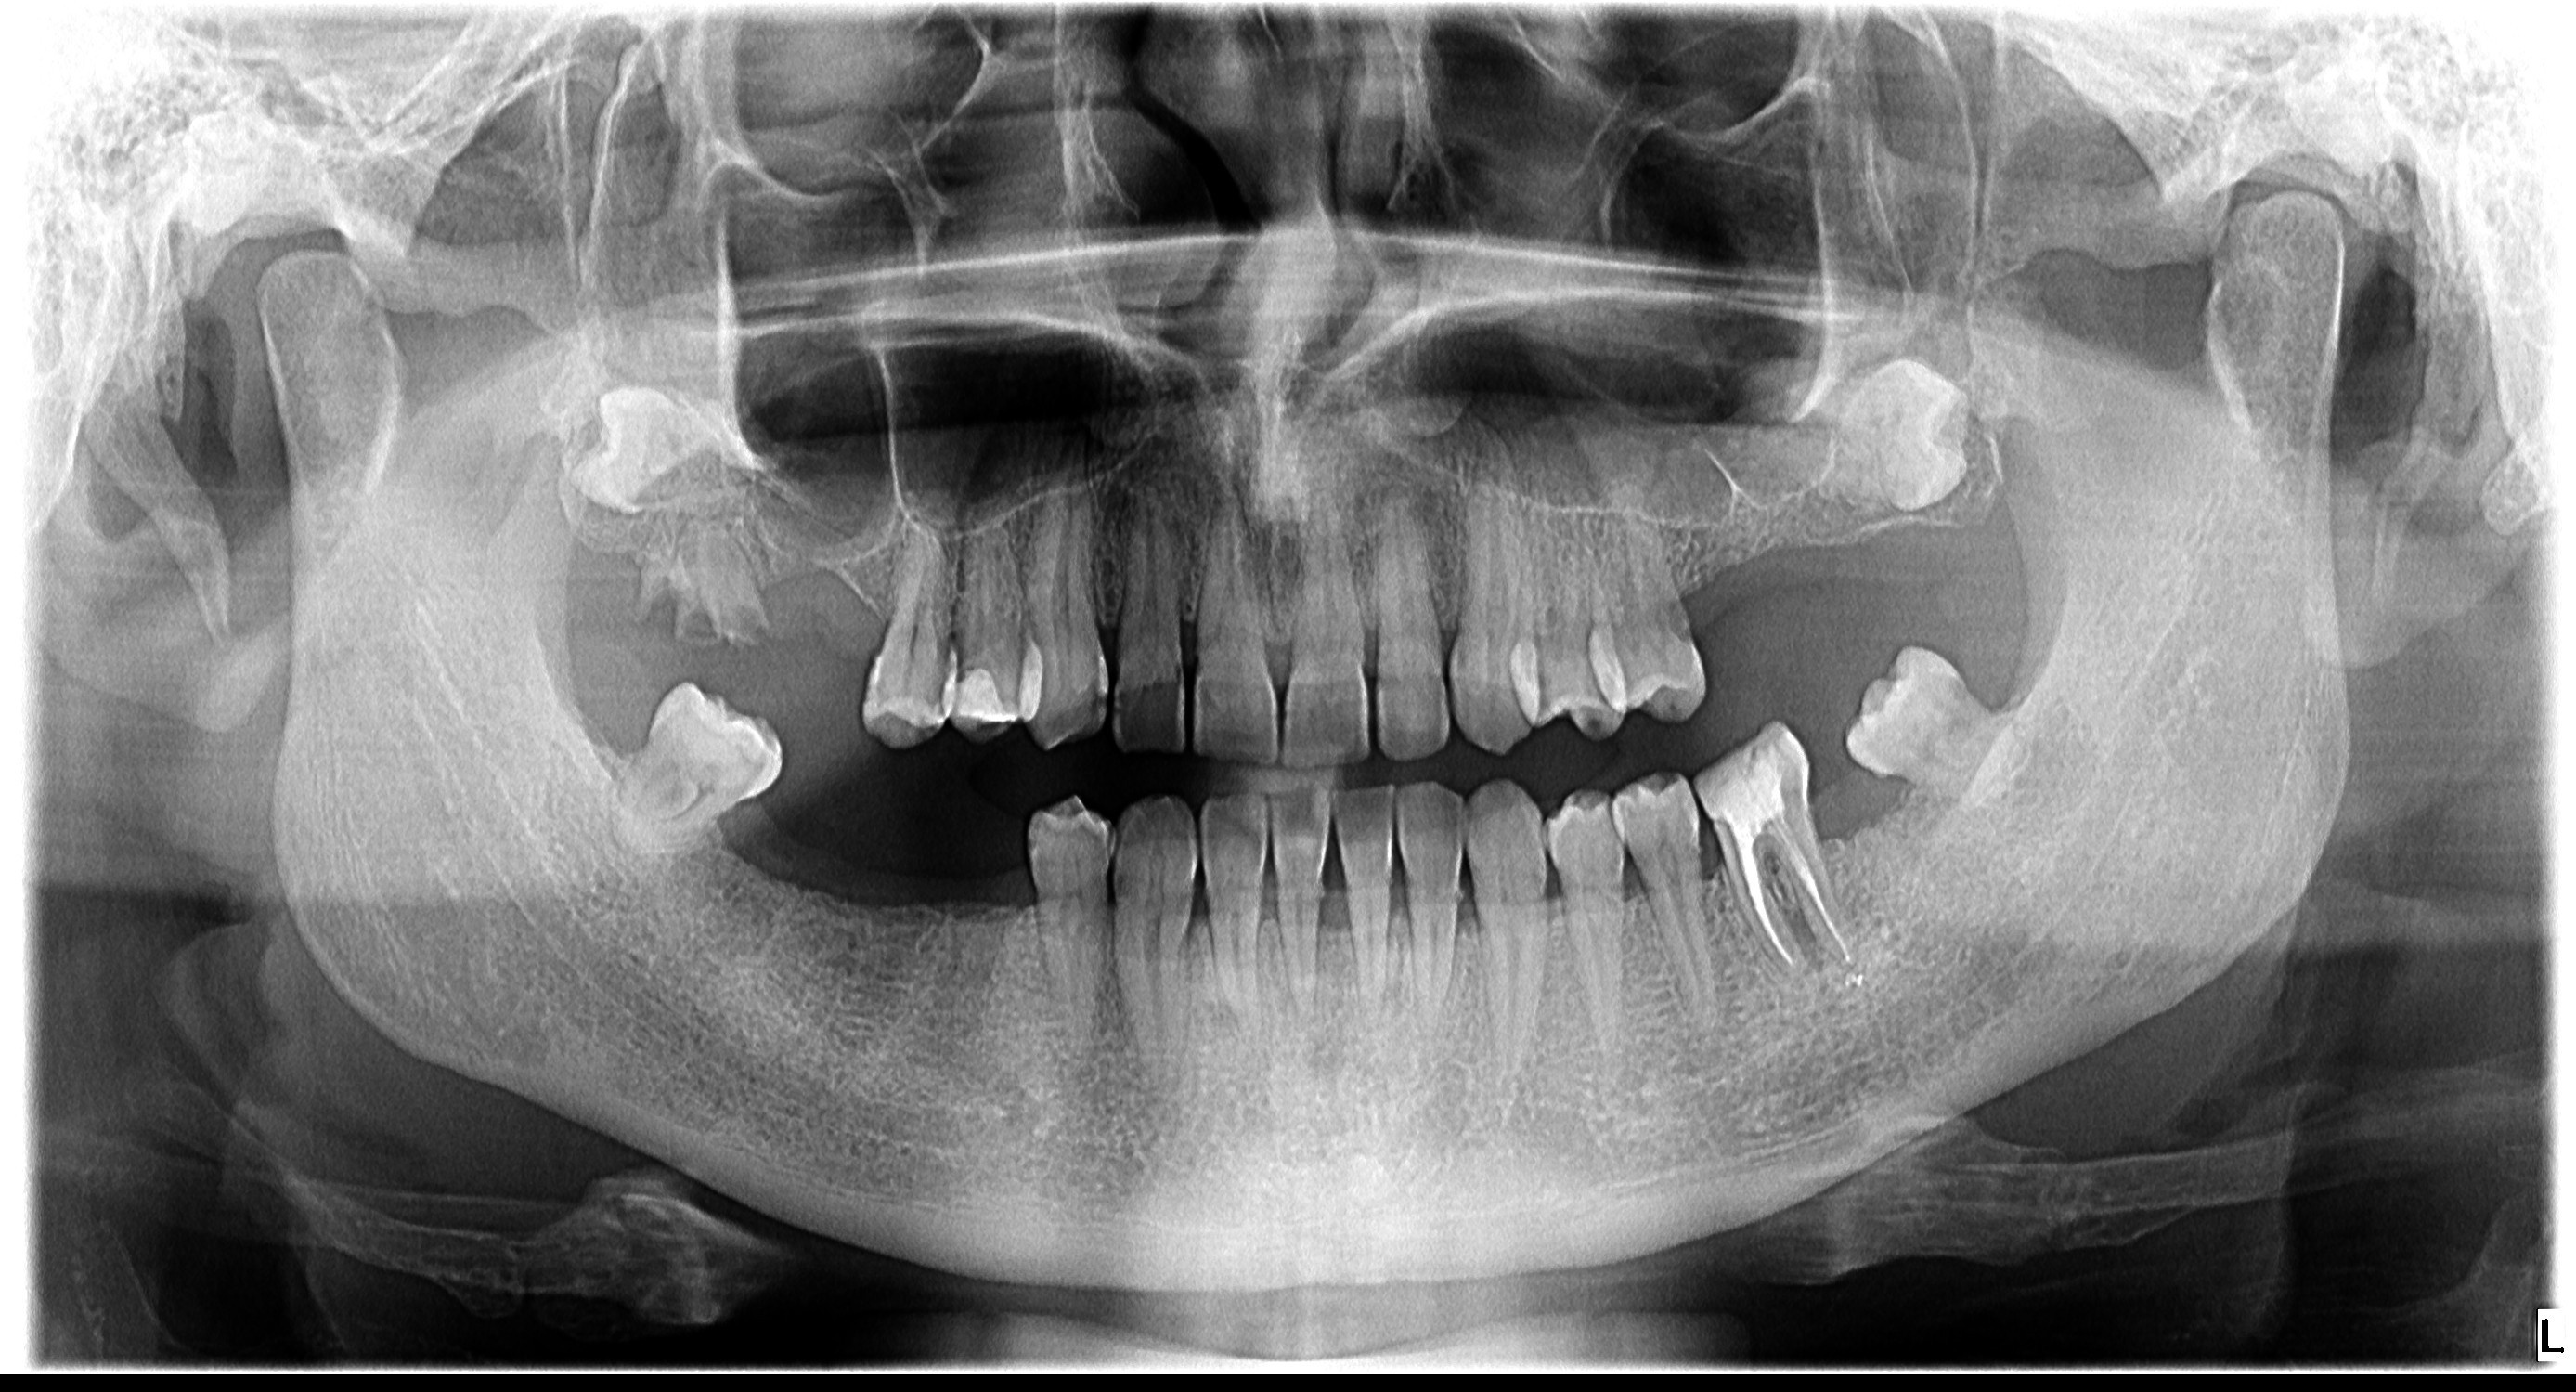CAR: (1077, 674, 1113, 732), (1014, 825, 1058, 859)
END: (1728, 843, 1870, 981)
IMT: (1826, 345, 1999, 535), (572, 363, 701, 521)
OBT: (1697, 727, 1790, 849), (935, 653, 1023, 749)
ROT: (668, 514, 786, 648), (613, 499, 704, 641)
